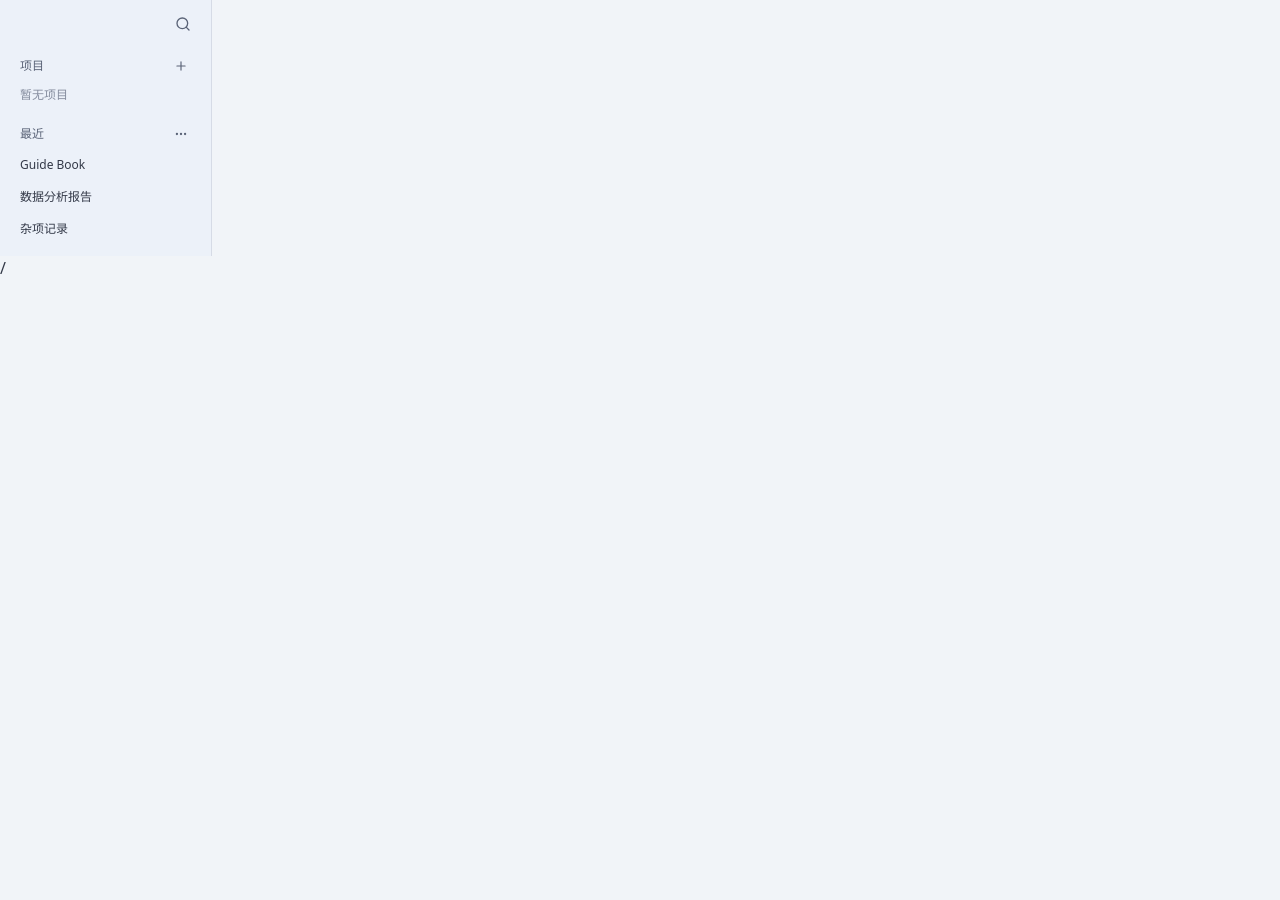
Test: Sidebar · F-02 头部搜索 / F-04 宽度 › 点击搜索 → 对话搜索弹层与输入框出现
The image size is (1280, 900).
Click the button with test id "sidebar-search" at (183, 24), box [171,12,195,36]
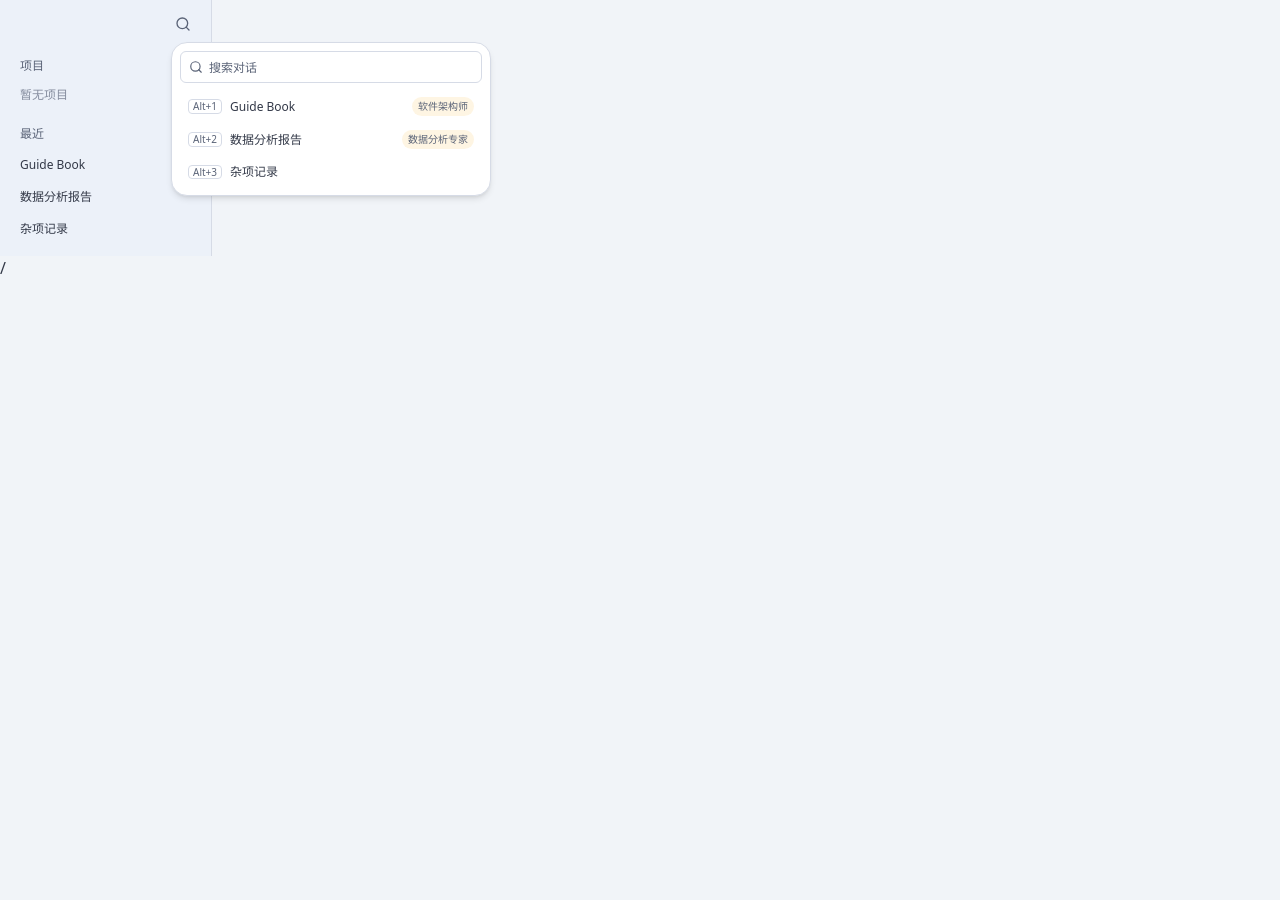
Expected: the field with test id "conv-search-input" is shown, [209,55,473,79]
